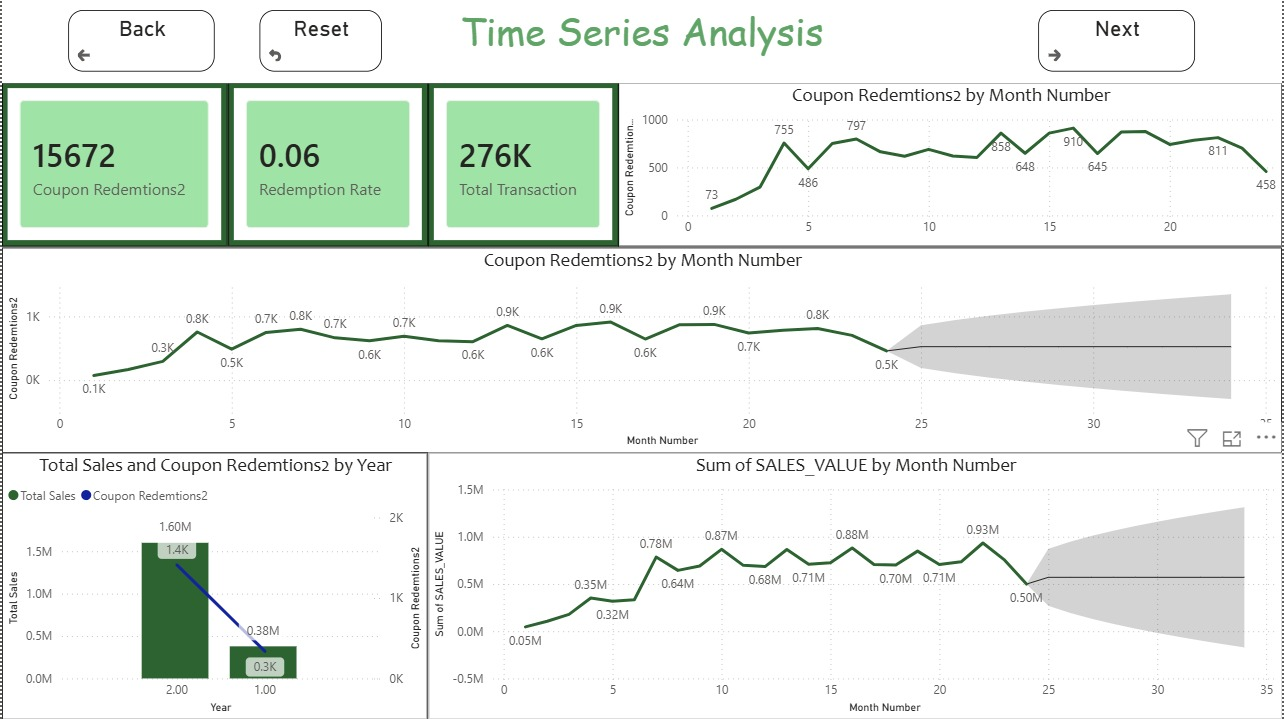

What the dashboard file says about the page in this screenshot:
{"tool":"powerbi","page":{"name":"Time Series Analysis","canvas":[1280,720],"ordinal":11},"visuals":[{"type":"lineChart","fields":{"Category":["Transaction.Month Number"],"Y":["Transaction.Coupon Redemtions2"]},"box":[615.7,82.9,664.3,164.3],"z":0},{"type":"lineChart","fields":{"Category":["Transaction.Month Number"],"Y":["Transaction.Coupon Redemtions2"]},"box":[0,247.1,1280,205.7],"z":1000},{"type":"lineChart","fields":{"Category":["Transaction.Month Number"],"Y":["Sum(Transaction.SALES_VALUE)"]},"box":[425.7,452.9,854.3,267.1],"z":2000},{"type":"lineStackedColumnComboChart","fields":{"Category":["Transaction.Year"],"Y2":["Transaction.Coupon Redemtions2"],"Y":["KPI.Total Sales"]},"box":[0,452.9,425.7,267.1],"z":3000},{"type":"cardVisual","fields":{"Data":["Transaction.Coupon Redemtions2"]},"box":[0,82.9,225.7,164.3],"z":4000},{"type":"cardVisual","fields":{"Data":["Transaction.Redemption Rate"]},"box":[225.7,82.9,200,164.3],"z":5000},{"type":"cardVisual","fields":{"Data":["Transaction.Total Transaction"]},"box":[425.7,82.9,190,164.3],"z":6000},{"type":"textbox","box":[0,0,1280,82.9],"z":7000},{"type":"actionButton","title":"Next","box":[1036.7,10,156.7,61.7],"z":8000},{"type":"actionButton","title":"Back","box":[66.7,10,146.7,61.7],"z":9000},{"type":"actionButton","title":"Reset","box":[257.4,9.7,122.4,61.2],"z":9001}]}

Visuals, with their boxes in screenshot pixels (x1, y1, x2, y2), scaled from the page's 1280x720 canvas onto the 1284x719 screenshot:
lineChart - Transaction.Month Number x Transaction.Coupon Redemtions2: [618,83,1283,247]
lineChart - Transaction.Month Number x Transaction.Coupon Redemtions2: [0,247,1283,452]
lineChart - Transaction.Month Number x Sum(Transaction.SALES_VALUE): [427,452,1283,718]
lineStackedColumnComboChart - Transaction.Year x Transaction.Coupon Redemtions2: [0,452,427,718]
cardVisual - Transaction.Coupon Redemtions2: [0,83,226,247]
cardVisual - Transaction.Redemption Rate: [226,83,427,247]
cardVisual - Transaction.Total Transaction: [427,83,618,247]
textbox: [0,0,1283,83]
"Next" actionButton: [1040,10,1197,72]
"Back" actionButton: [67,10,214,72]
"Reset" actionButton: [258,10,381,71]
